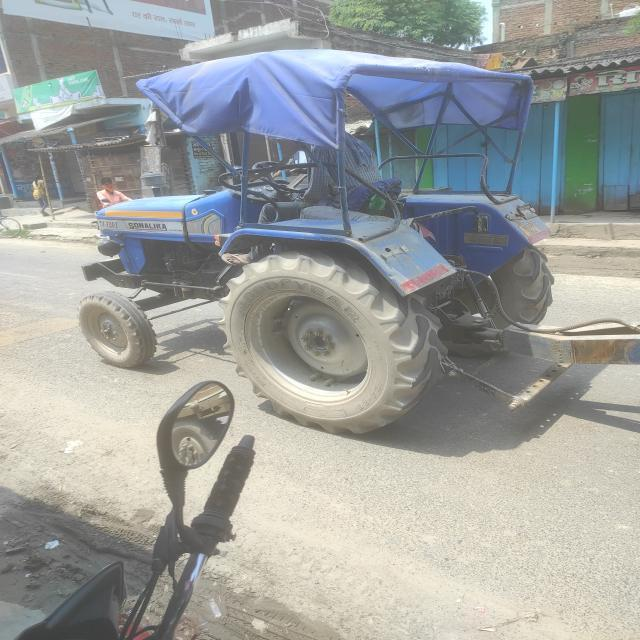tractor_back: (75, 46, 640, 440)
